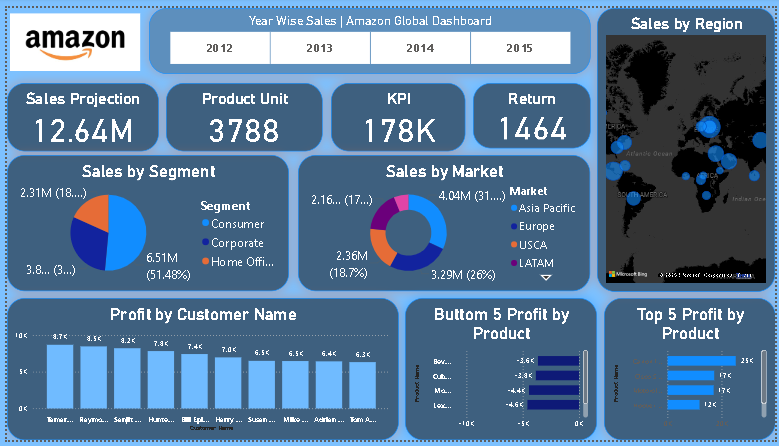

What the dashboard file says about the page in this screenshot:
{"tool":"powerbi","page":{"name":"Dashboard 1","canvas":[1280,720],"ordinal":0},"visuals":[{"type":"slicer","title":"Year Wise Sales | Amazon Global Dashboard","fields":{"Values":["Orders.year"]},"box":[237.1,0,735.7,110],"z":0},{"type":"card","title":"Sales Projection","fields":{"Values":["Orders.Sales"]},"box":[0,125.7,252.9,114.3],"z":1000},{"type":"image","box":[0,0,227.1,114.3],"z":2000},{"type":"card","title":"Product Unit","fields":{"Values":["Orders.Product Name"]},"box":[264.3,125.7,261.4,114.3],"z":3000},{"type":"card","title":"KPI","fields":{"Values":["Orders.Quantity"]},"box":[540,125.7,224.3,114.3],"z":4000},{"type":"card","title":"Return","fields":{"Values":["Orders.Ship Date"]},"box":[777.1,125.7,195.7,108.6],"z":5000},{"type":"pieChart","title":"Sales by Segment","fields":{"Category":["Orders.Segment"],"Y":["Orders.Sales"]},"box":[0,245.7,470,227.1],"z":6000},{"type":"donutChart","title":"Sales by Market","fields":{"Category":["Orders.Market"],"Y":["Orders.Sales"]},"box":[485.7,245.7,487.1,227.1],"z":7000},{"type":"columnChart","title":" Profit by Customer Name","fields":{"Category":["Orders.Customer Name"],"Y":["Orders.Profit"]},"box":[0,482.9,652.9,237.1],"z":8000},{"type":"clusteredBarChart","title":"Buttom 5 Profit by Product ","fields":{"Y":["Orders.Profit"],"Category":["Orders.Product Name"]},"box":[662.9,482.9,320,237.1],"z":9000},{"type":"clusteredBarChart","title":"Top 5 Profit by Product ","fields":{"Y":["Orders.Profit"],"Category":["Orders.Product Name"]},"box":[994.3,482.9,285.7,237.1],"z":10000},{"type":"map","title":"Sales by Region","fields":{"Category":["Orders.Region"],"Size":["Orders.Sales"]},"box":[982.9,0,297.1,472.9],"z":11000}]}

Visuals, with their boxes in screenshot pixels (x1, y1, x2, y2), scaled from the page's 1280x720 canvas onto the 779x446 screenshot:
"Year Wise Sales | Amazon Global Dashboard" slicer: pyautogui.locateOnScreen(144, 0, 592, 68)
"Sales Projection" card: pyautogui.locateOnScreen(0, 78, 154, 149)
image: pyautogui.locateOnScreen(0, 0, 138, 71)
"Product Unit" card: pyautogui.locateOnScreen(161, 78, 320, 149)
"KPI" card: pyautogui.locateOnScreen(329, 78, 465, 149)
"Return" card: pyautogui.locateOnScreen(473, 78, 592, 145)
"Sales by Segment" pieChart: pyautogui.locateOnScreen(0, 152, 286, 293)
"Sales by Market" donutChart: pyautogui.locateOnScreen(296, 152, 592, 293)
" Profit by Customer Name" columnChart: pyautogui.locateOnScreen(0, 299, 397, 445)
"Buttom 5 Profit by Product " clusteredBarChart: pyautogui.locateOnScreen(403, 299, 598, 445)
"Top 5 Profit by Product " clusteredBarChart: pyautogui.locateOnScreen(605, 299, 778, 445)
"Sales by Region" map: pyautogui.locateOnScreen(598, 0, 778, 293)
